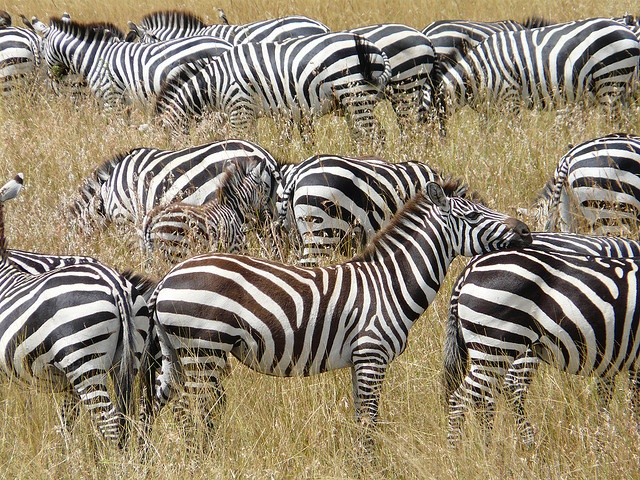zebra: (141, 179, 531, 454), (1, 172, 151, 455), (441, 245, 639, 449), (151, 31, 393, 148), (28, 10, 235, 130), (58, 142, 284, 247), (277, 154, 485, 268), (423, 19, 640, 121), (138, 160, 274, 265), (543, 130, 640, 236)
